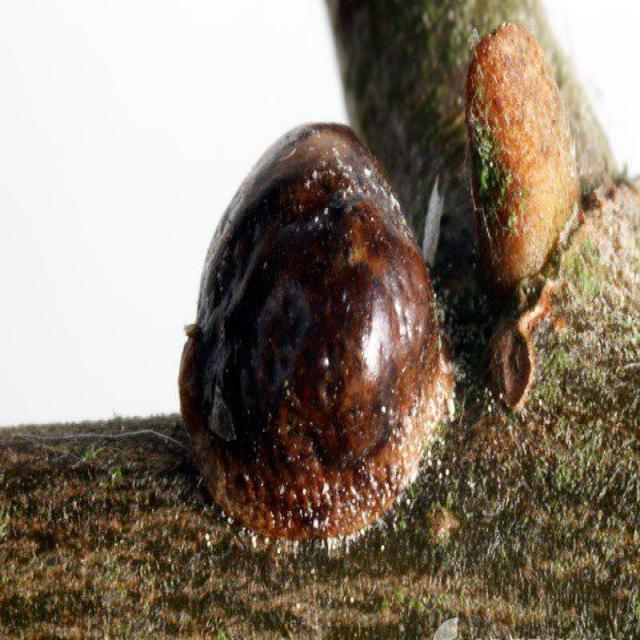BlackScale: (178, 122, 454, 542), (466, 21, 640, 415)
